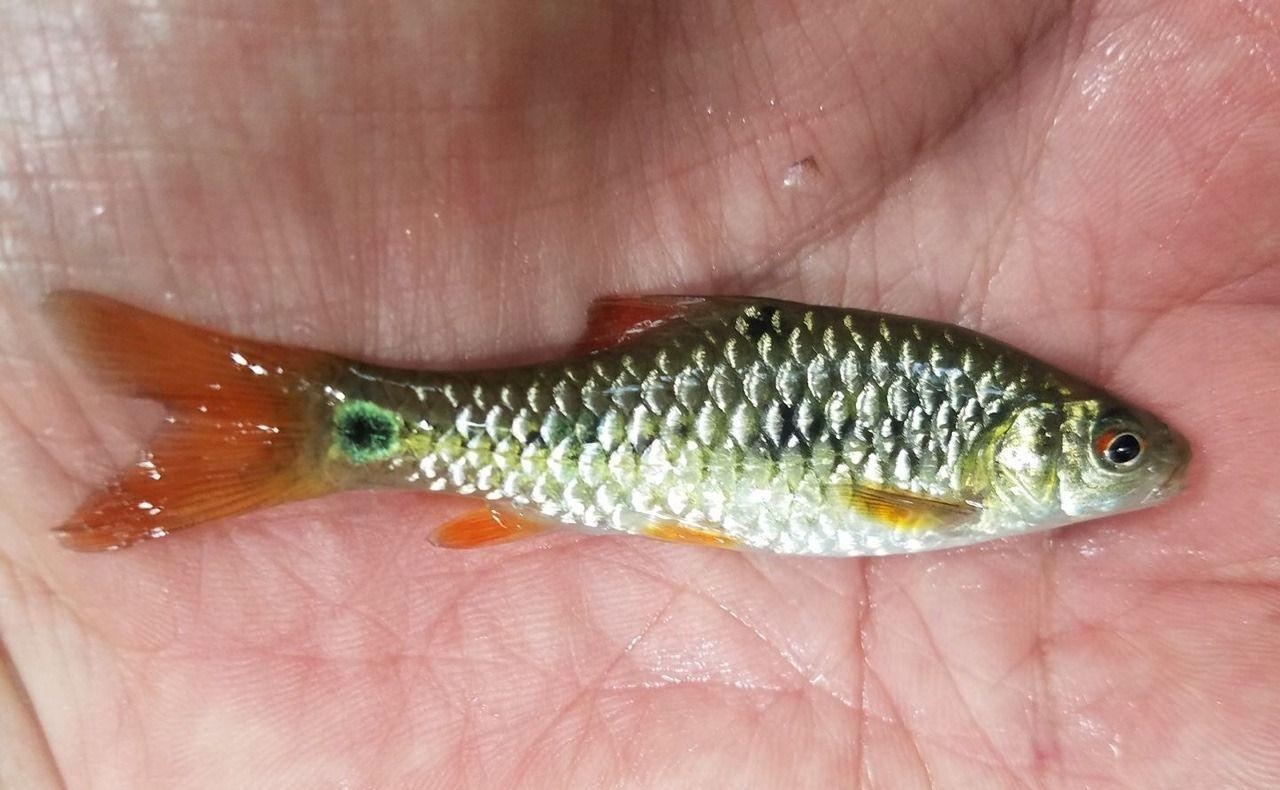Black Spotted Barb: (49, 274, 1200, 558)
